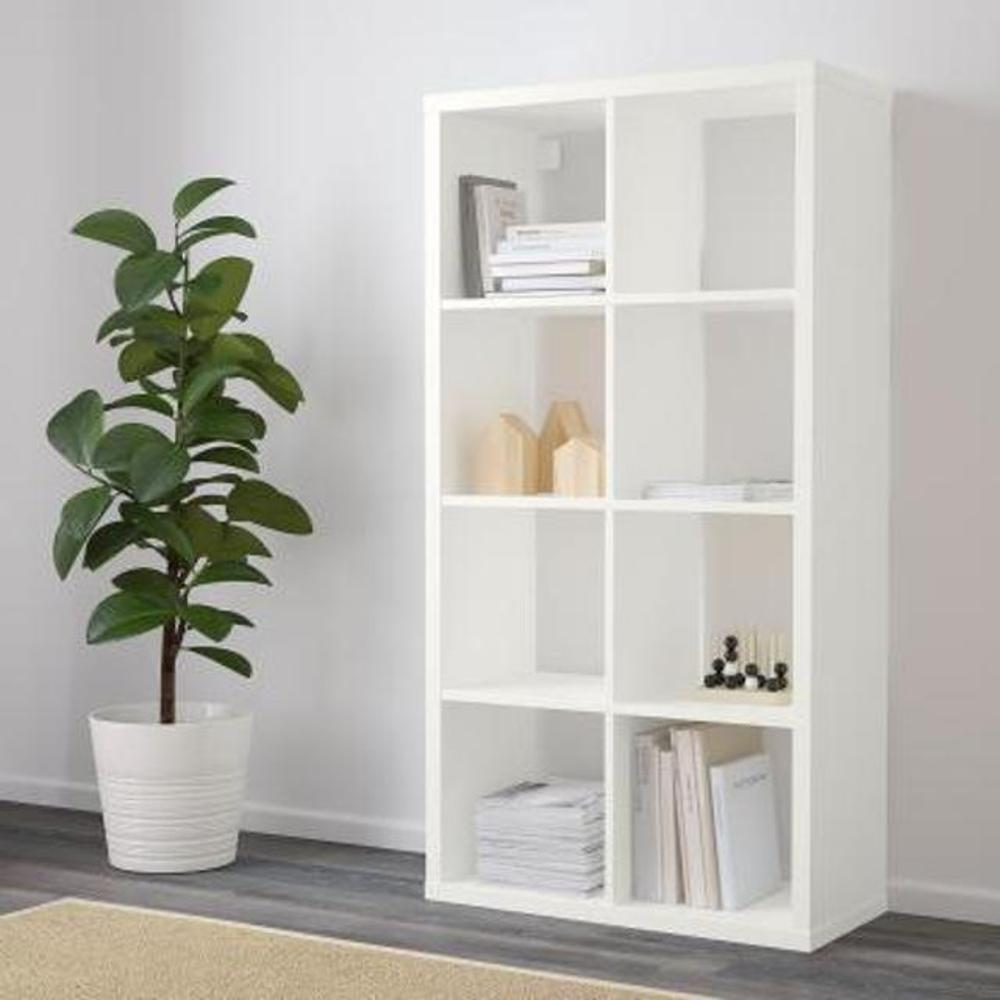lamp: (425, 56, 901, 956)
